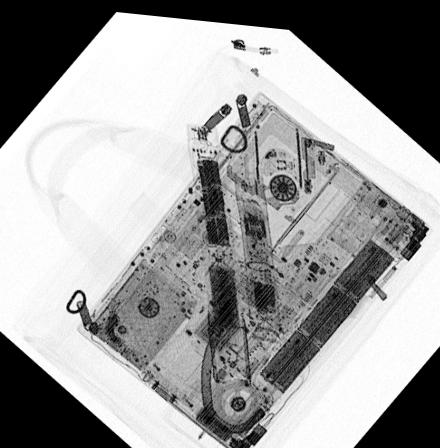Baton: (184, 117, 253, 381), (232, 166, 282, 335)
